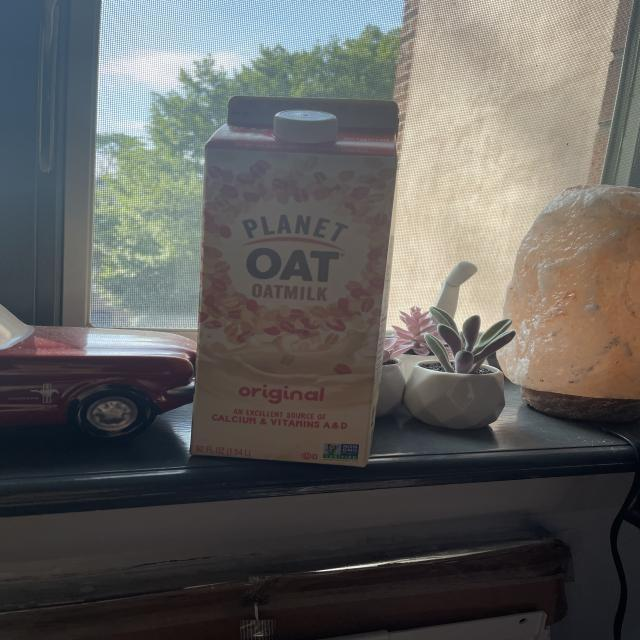Planet Oat Original: (181, 81, 415, 480)
